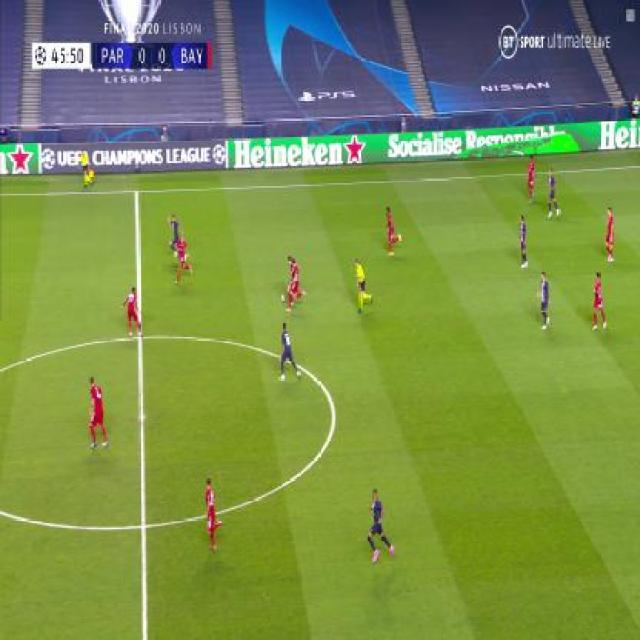ball: (281, 292, 286, 303)
player: (364, 487, 395, 564), (87, 375, 110, 451), (202, 475, 224, 554), (276, 322, 301, 384), (282, 256, 304, 313), (119, 286, 142, 337), (353, 259, 373, 313), (591, 270, 608, 332), (383, 207, 402, 256), (176, 235, 193, 288), (536, 270, 550, 332), (602, 207, 616, 263), (546, 166, 560, 219), (517, 214, 530, 271), (524, 155, 538, 204), (78, 153, 95, 189), (168, 213, 179, 259), (285, 255, 293, 283)
